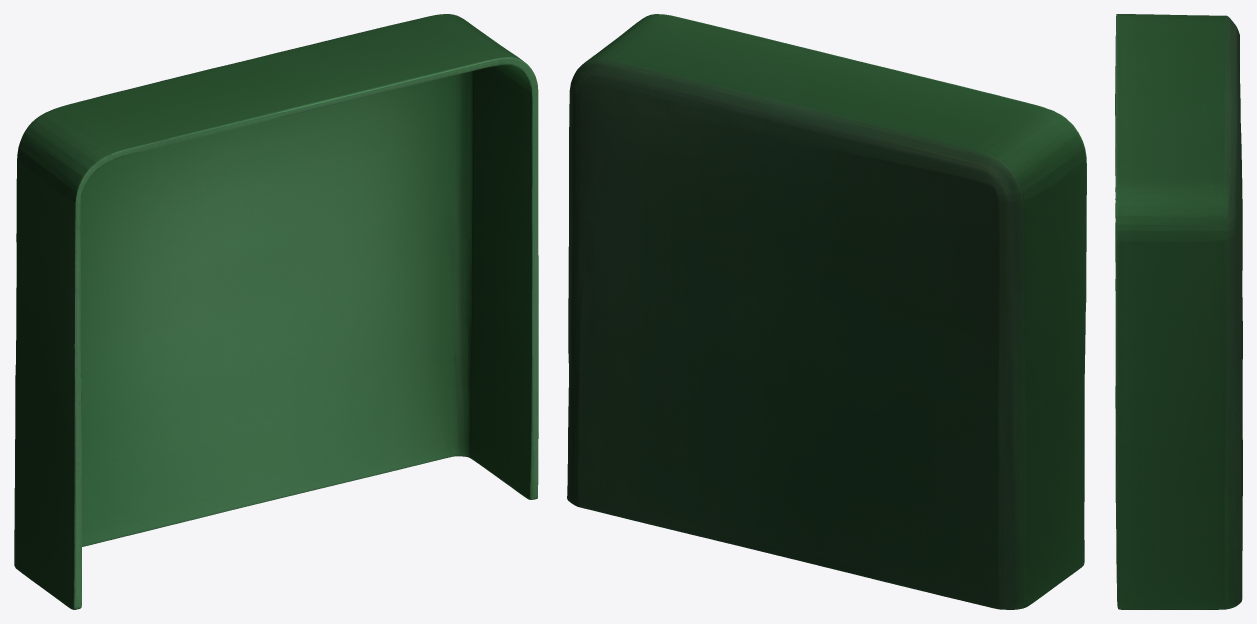
Rendered from tray_visual_0.obj.
3 views of the same model, side by side, from view 1: azimuth 30°, elevation 25°; view 2: azimuth 150°, elevation 25°; view 3: azimuth 270°, elevation 25° (orthographic). The views are drawn at different scales.
Bounding box in the file's own units: 0.9954 × 0.9273 × 0.2633.
1 material, 1 textured.
